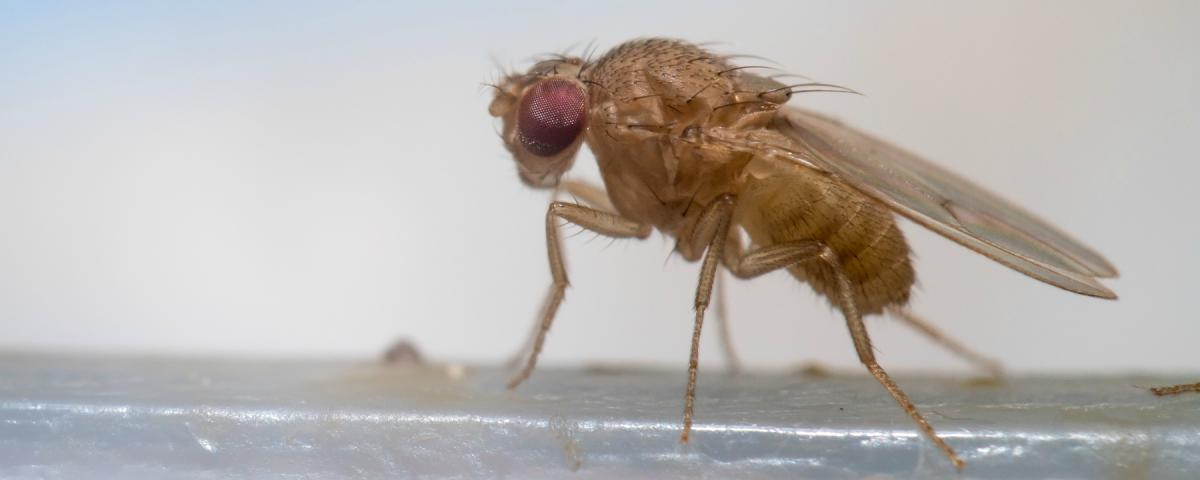Fruit fly: (471, 30, 1079, 449)
